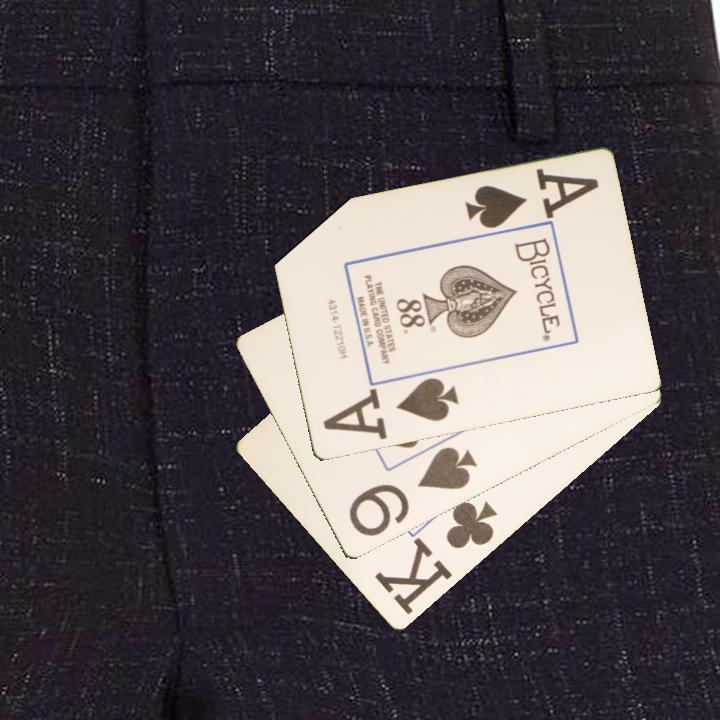9s: (344, 443, 480, 540)
As: (461, 165, 601, 232), (332, 374, 462, 429)
Kc: (371, 498, 501, 619)
